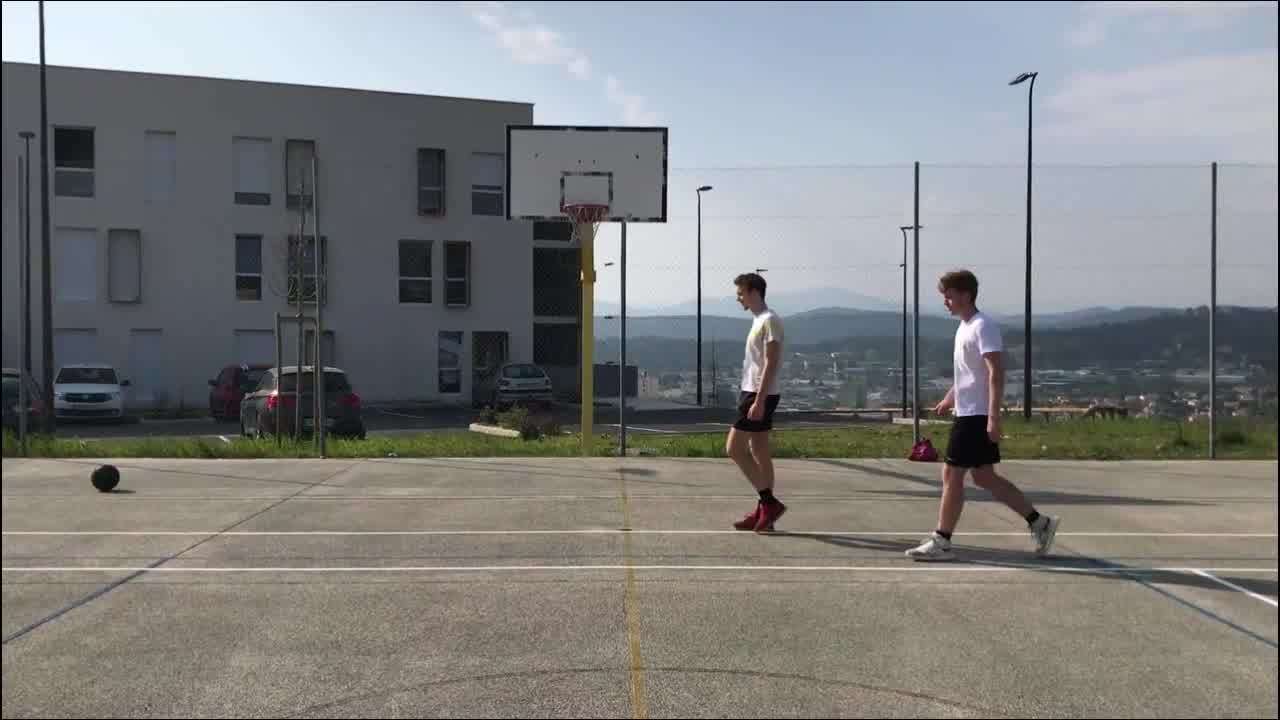jugador: (710, 265, 800, 542)
